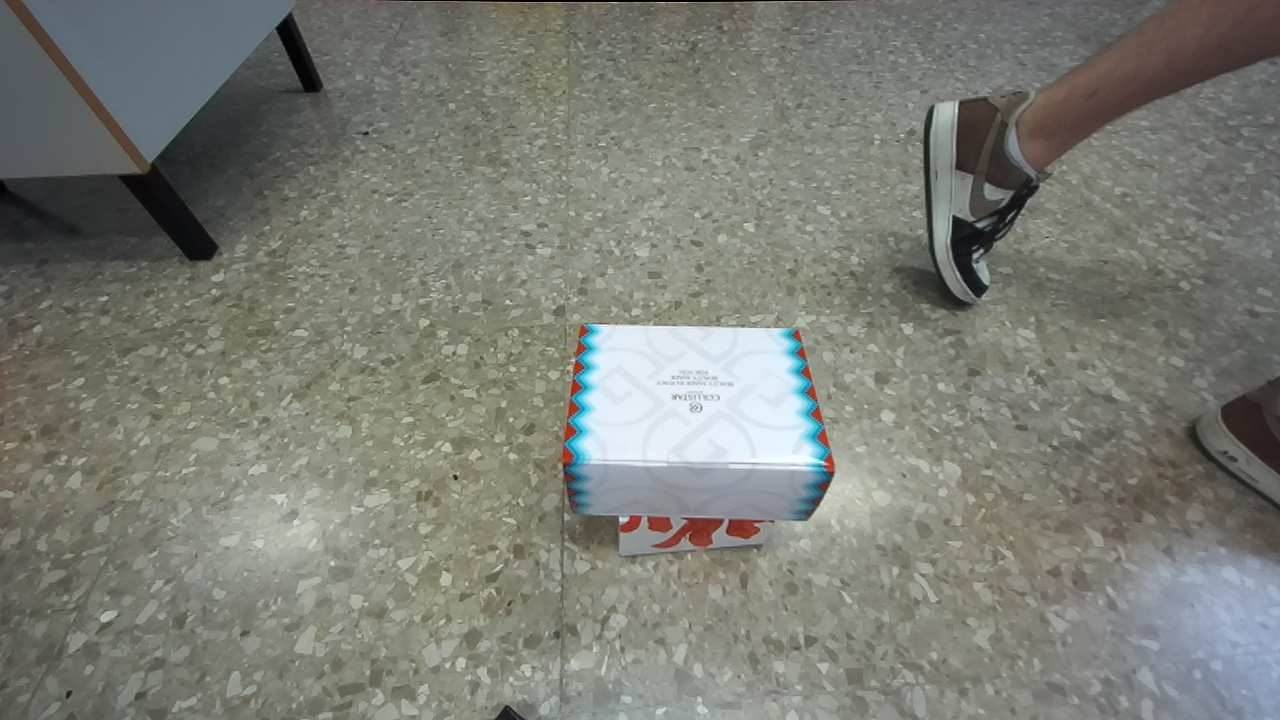caja_busbar: (561, 323, 835, 521)
caja_potencia: (619, 516, 775, 556)
